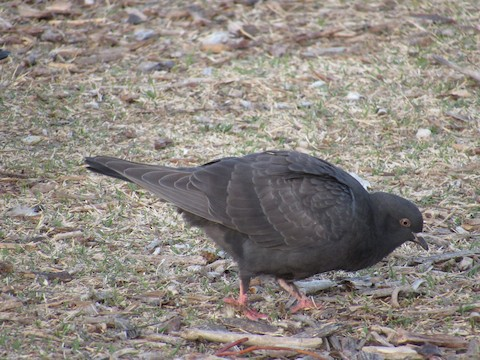pigeon: (73, 131, 436, 326)
